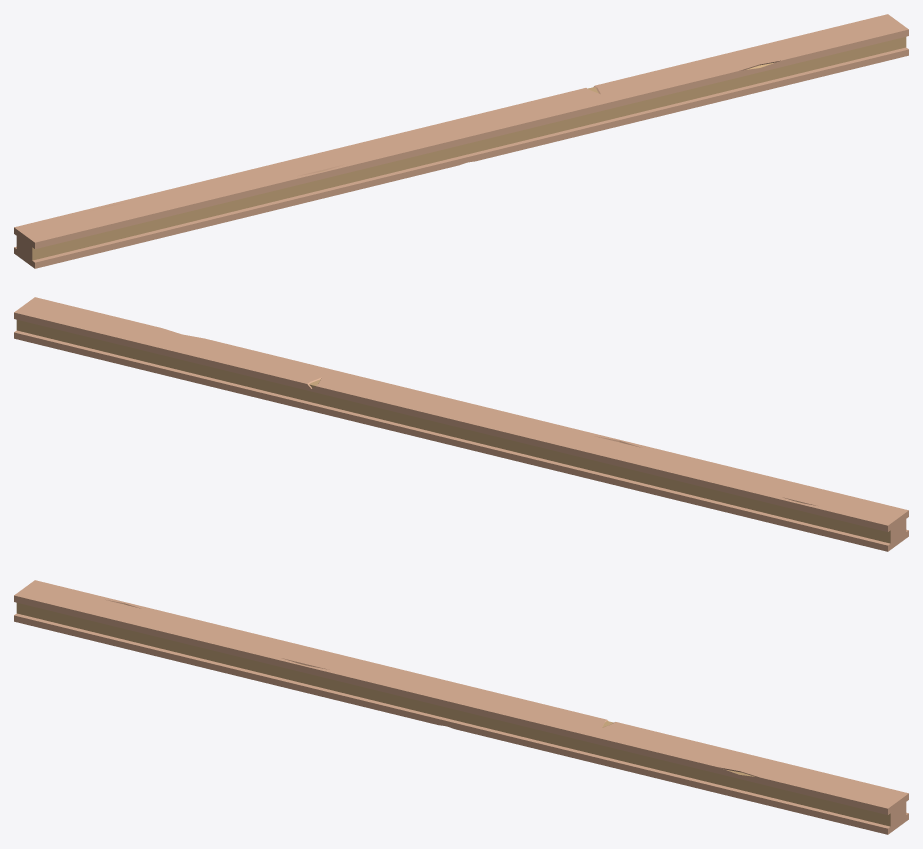
File: BoisPoutre_01.fbx
3 views of the same model, one above another, from view 1: azimuth 30°, elevation 25°; view 2: azimuth 150°, elevation 25°; view 3: azimuth 330°, elevation 25° (orthographic).
Visible parts, largest first — view 1: Cube.020; view 2: Cube.020; view 3: Cube.020.
Boxes of the visible parts, box(x1,y1,x2,y2) form: Cube.020: box(14, 14, 908, 268); Cube.020: box(14, 297, 908, 551); Cube.020: box(14, 580, 908, 834).
Bounding box in the file's own units: 1514 × 43.31 × 63.08.
